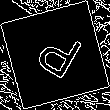P_SW: (26, 24, 84, 86)
